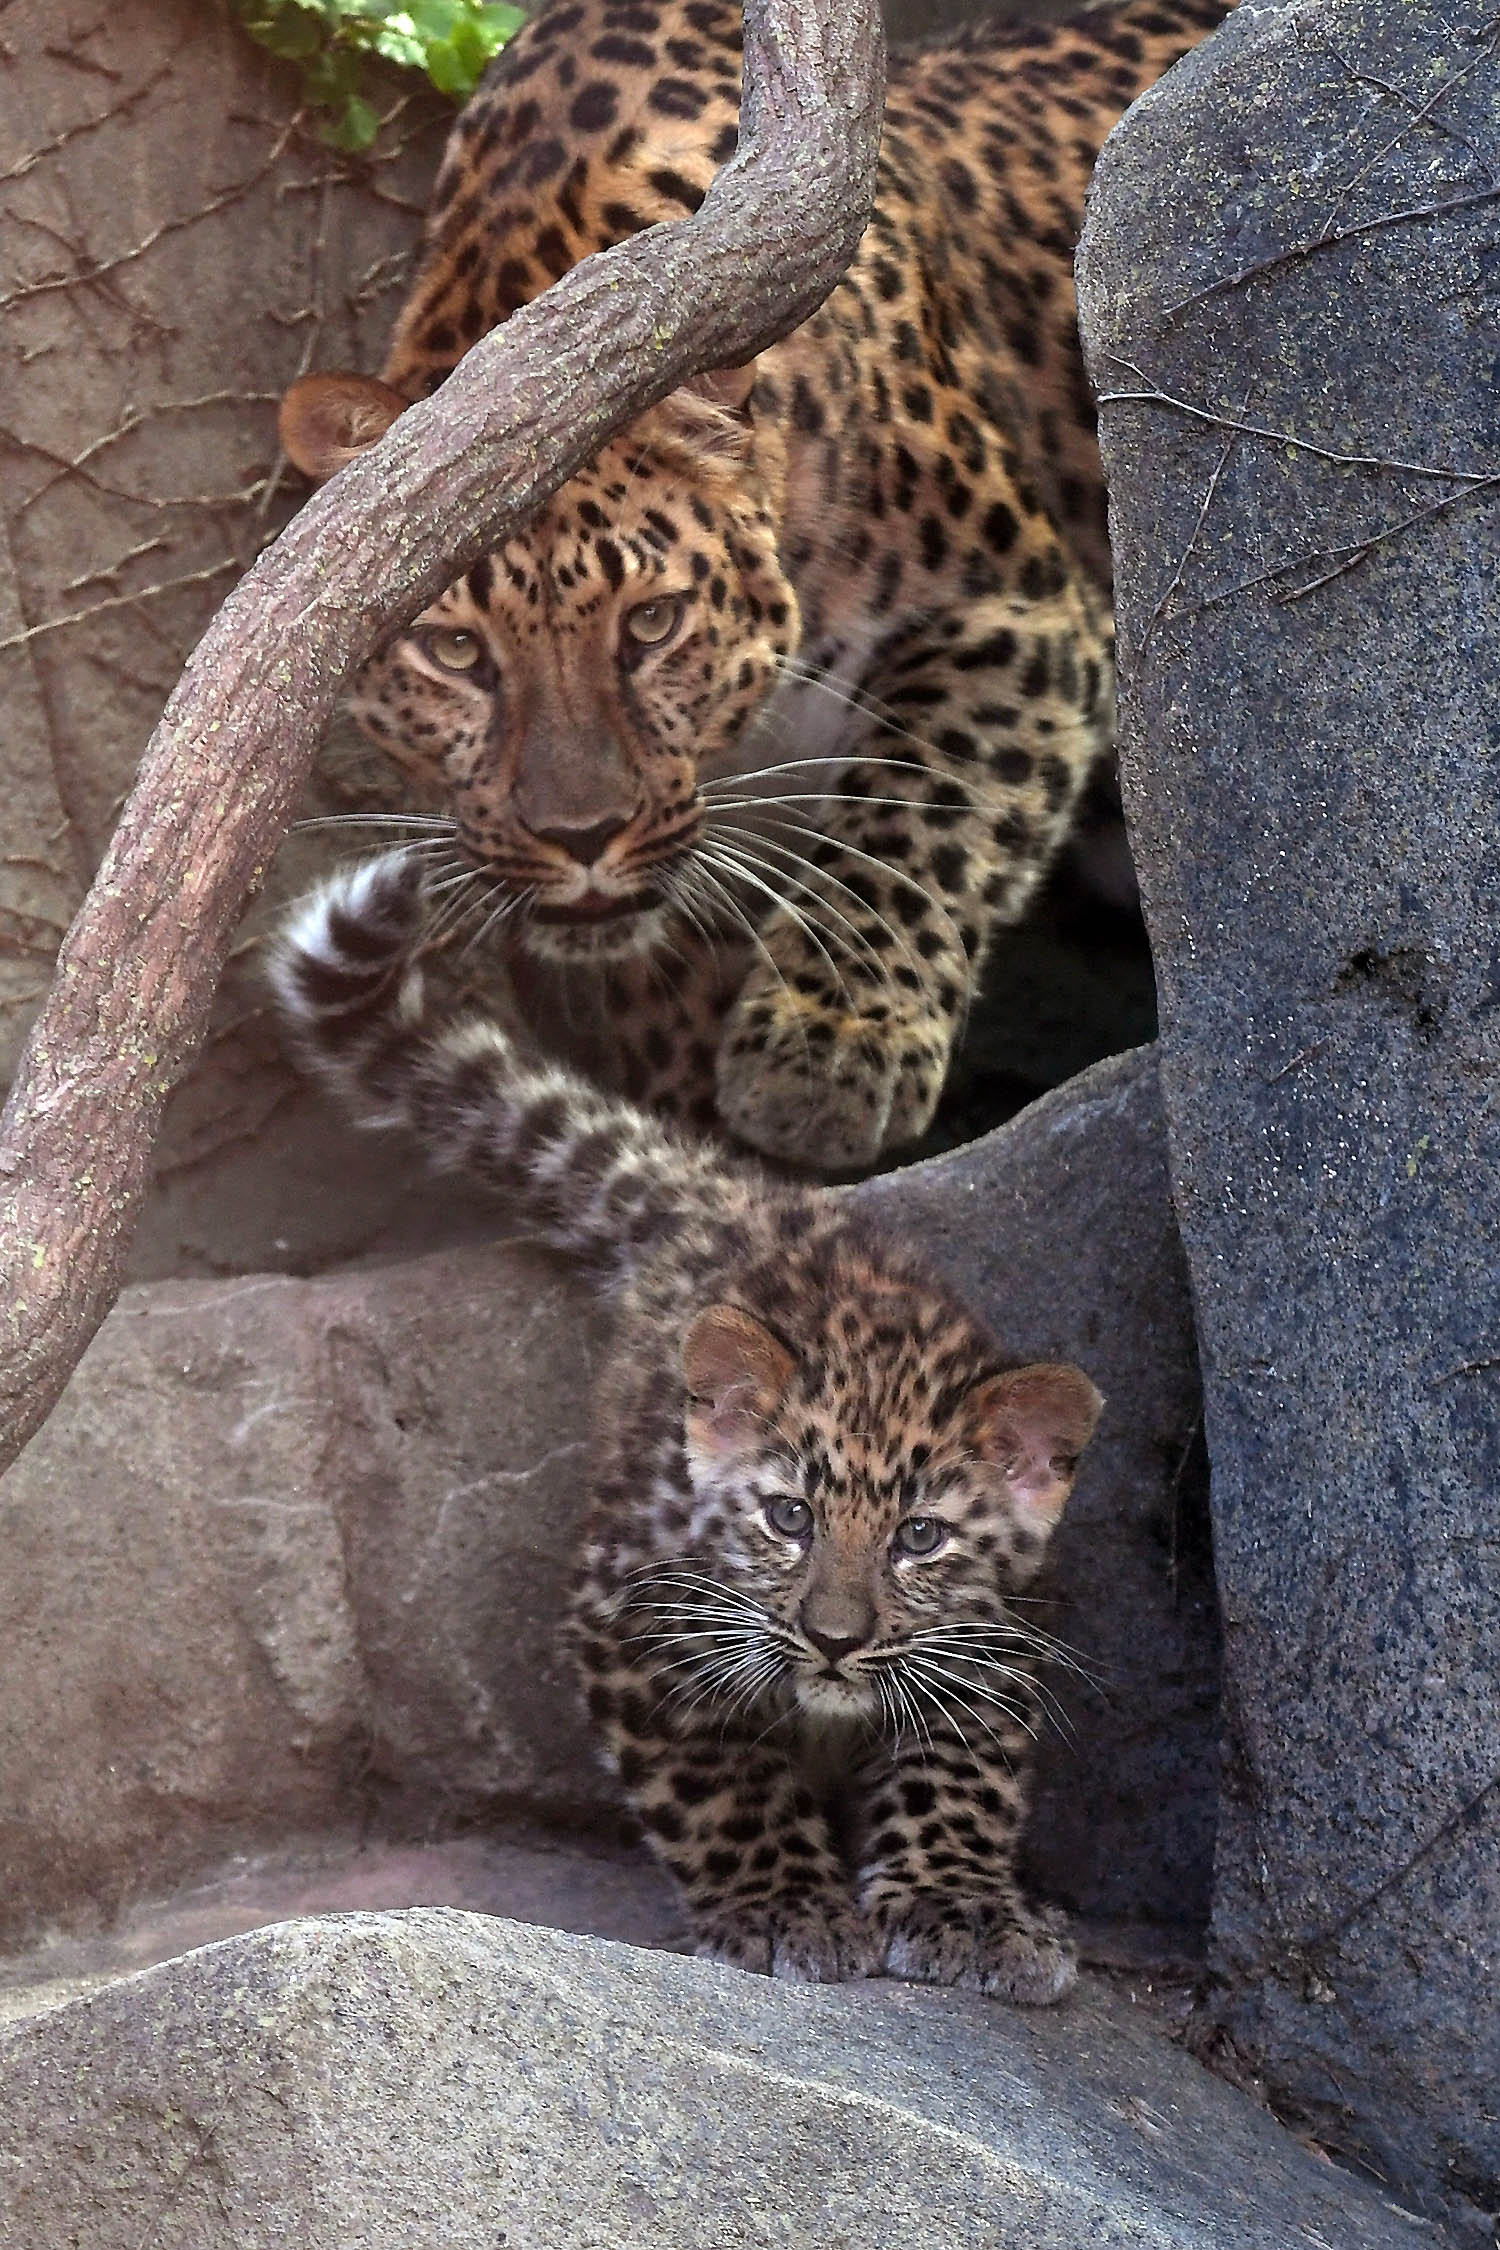amur_leopard: (275, 13, 1276, 1083), (447, 1217, 1209, 2021)
